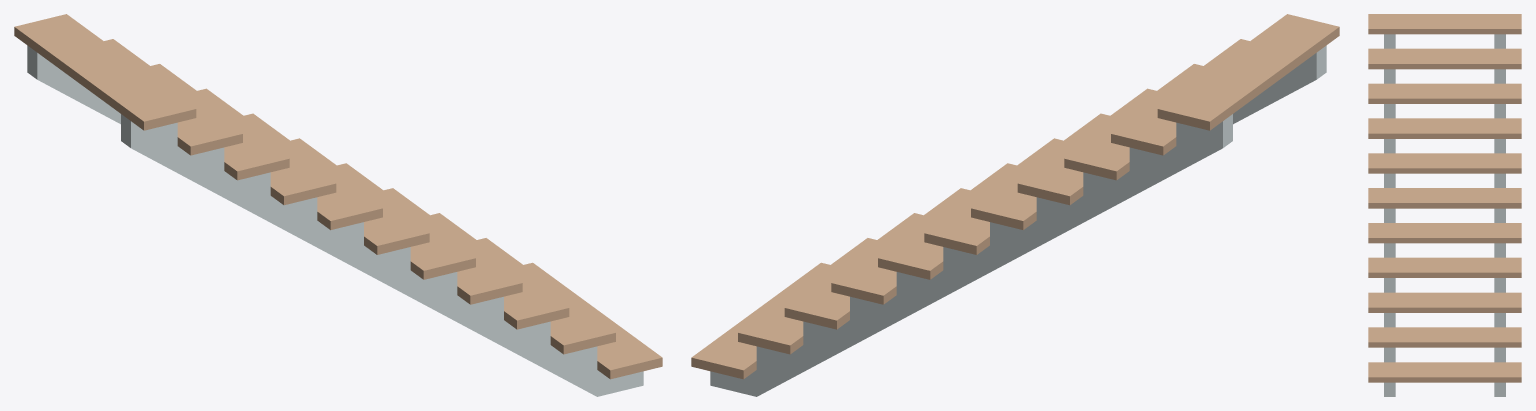
File: stairsOpen.glb
The picture shows the model from 3 angles, left to right: view 1: azimuth 30°, elevation 25°; view 2: azimuth 150°, elevation 25°; view 3: azimuth 270°, elevation 25°; orthographic projection. The views are drawn at different scales.
Visible parts, largest first — view 1: stairsOpen, Group, Group_1; view 2: stairsOpen, Group_1, Group; view 3: stairsOpen, Group, Group_1.
Part boxes in pixels (x1=…): stairsOpen: x1=14, y1=14, x2=662, y2=379; Group: x1=121, y1=114, x2=643, y2=396; Group_1: x1=27, y1=45, x2=120, y2=124; stairsOpen: x1=691, y1=14, x2=1339, y2=379; Group_1: x1=710, y1=114, x2=1232, y2=396; Group: x1=1233, y1=45, x2=1326, y2=124; stairsOpen: x1=1368, y1=14, x2=1521, y2=382; Group: x1=1384, y1=34, x2=1395, y2=396; Group_1: x1=1494, y1=34, x2=1505, y2=396.
Size of the model in its own units: 1.82 by 1.34 by 0.79.
